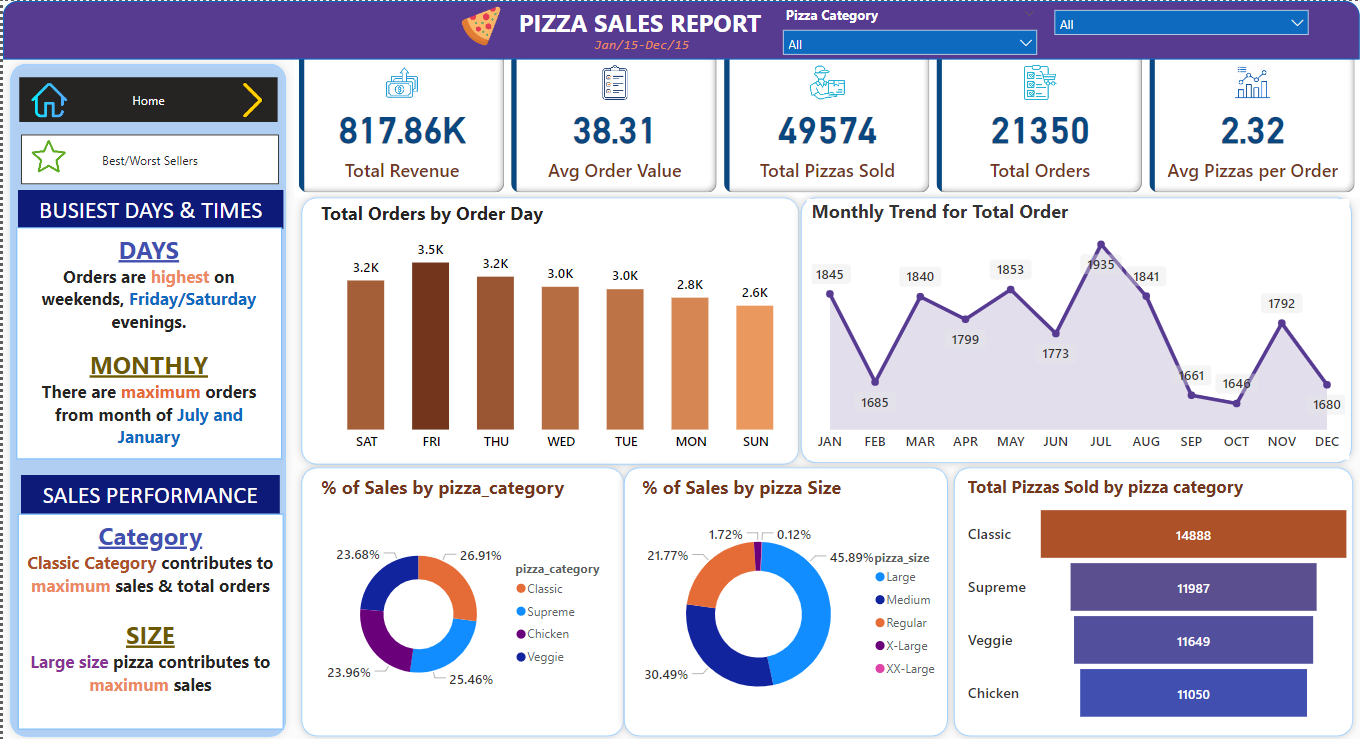

The page's visual inventory and layout, read from the dashboard file:
{"tool":"powerbi","page":{"name":"Home","canvas":[1500,820],"ordinal":0},"visuals":[{"type":"shape","box":[0,60.9,320.9,759.8],"z":0},{"type":"cardVisual","fields":{"Data":["pizza_sales.Total Revenue","pizza_sales.Avg Order Value","pizza_sales.Total Pizzas Sold","pizza_sales.Total Orders","pizza_sales.Avg Pizzas per Order"]},"box":[320.9,51.6,1178.4,166],"z":1000},{"type":"shape","box":[0,0,1499.3,64.5],"z":2000},{"type":"textbox","box":[497.9,0,413.1,49.8],"z":3000},{"type":"textbox","box":[592,33.2,171.5,31.4],"z":4000},{"type":"image","box":[477.6,0,101.4,55.3],"z":5000},{"type":"shape","box":[320.9,208.4,566.1,311.7],"z":6000},{"type":"columnChart","fields":{"Category":["pizza_sales.Order Day"],"Y":["pizza_sales.Total Orders"]},"box":[346.7,221.3,540.3,285.8],"z":7000},{"type":"shape","box":[874.1,208.4,625.2,309.8],"z":8000},{"type":"areaChart","title":"Monthly Trend for Total Order","fields":{"Category":["pizza_sales.Month "],"Y":["pizza_sales.Total Orders"]},"box":[888.9,219.5,599.3,287.7],"z":9000},{"type":"shape","box":[320.9,507.1,372.5,313.5],"z":10000},{"type":"shape","box":[678.6,507.1,374.4,313.5],"z":11000},{"type":"shape","box":[1041.9,507.1,457.3,313.5],"z":12000},{"type":"donutChart","title":"% of Sales by pizza_category","fields":{"Category":["pizza_sales.pizza_category"],"Y":["pizza_sales.Total Revenue"]},"box":[346.7,523.7,333.8,280.3],"z":13000},{"type":"donutChart","title":"% of Sales by pizza Size","fields":{"Y":["pizza_sales.Total Revenue"],"Category":["pizza_sales.pizza_size"]},"box":[700.8,523.7,346.7,280.3],"z":14000},{"type":"funnel","title":"Total Pizzas Sold by pizza category","fields":{"Y":["pizza_sales.Total Pizzas Sold"],"Category":["pizza_sales.pizza_category"]},"box":[1060.4,523.7,433.4,280.3],"z":15000},{"type":"textbox","box":[16.6,208.4,293.2,42.4],"z":16000},{"type":"textbox","box":[14.8,250.8,293.2,256.3],"z":17000},{"type":"textbox","box":[20.3,523.7,285.8,42.4],"z":18000},{"type":"textbox","box":[16.6,566.1,293.2,237.9],"z":19000},{"type":"slicer","fields":{"Values":["pizza_sales.pizza_category"]},"box":[852,0,300.6,60],"z":20000},{"type":"slicer","fields":{"Values":["pizza_sales.order_date.Variation.Date Hierarchy.Year","pizza_sales.order_date.Variation.Date Hierarchy.Month","pizza_sales.order_date.Variation.Date Hierarchy.Day"]},"box":[1152.6,0,300.6,60.9],"z":21000},{"type":"pageNavigator","box":[18.4,84.8,285.8,49.8],"z":22000},{"type":"pageNavigator","box":[20.3,147.5,285.8,55.3],"z":22001},{"type":"image","box":[243.4,84.8,64.5,49.8],"z":22002},{"type":"image","box":[20.3,147.5,60.9,47.9],"z":22003},{"type":"image","box":[22.1,84.8,59,49.8],"z":22004}]}

Visuals, with their boxes in screenshot pixels (x1, y1, x2, y2), scaled from the page's 1500x820 canvas onto the 1360x739 screenshot:
shape: x1=0, y1=55, x2=291, y2=738
cardVisual - pizza_sales.Total Revenue x pizza_sales.Avg Order Value: x1=291, y1=47, x2=1359, y2=196
shape: x1=0, y1=0, x2=1359, y2=58
textbox: x1=451, y1=0, x2=826, y2=45
textbox: x1=537, y1=30, x2=692, y2=58
image: x1=433, y1=0, x2=525, y2=50
shape: x1=291, y1=188, x2=804, y2=469
columnChart - pizza_sales.Order Day x pizza_sales.Total Orders: x1=314, y1=199, x2=804, y2=457
shape: x1=793, y1=188, x2=1359, y2=467
"Monthly Trend for Total Order" areaChart: x1=806, y1=198, x2=1349, y2=457
shape: x1=291, y1=457, x2=629, y2=738
shape: x1=615, y1=457, x2=955, y2=738
shape: x1=945, y1=457, x2=1359, y2=738
"% of Sales by pizza_category" donutChart: x1=314, y1=472, x2=617, y2=725
"% of Sales by pizza Size" donutChart: x1=635, y1=472, x2=950, y2=725
"Total Pizzas Sold by pizza category" funnel: x1=961, y1=472, x2=1354, y2=725
textbox: x1=15, y1=188, x2=281, y2=226
textbox: x1=13, y1=226, x2=279, y2=457
textbox: x1=18, y1=472, x2=278, y2=510
textbox: x1=15, y1=510, x2=281, y2=725
slicer - pizza_sales.pizza_category: x1=772, y1=0, x2=1045, y2=54
slicer - pizza_sales.order_date.Variation.Date Hierarchy.Year x pizza_sales.order_date.Variation.Date Hierarchy.Month: x1=1045, y1=0, x2=1318, y2=55
pageNavigator: x1=17, y1=76, x2=276, y2=121
pageNavigator: x1=18, y1=133, x2=278, y2=183
image: x1=221, y1=76, x2=279, y2=121
image: x1=18, y1=133, x2=74, y2=176
image: x1=20, y1=76, x2=74, y2=121
